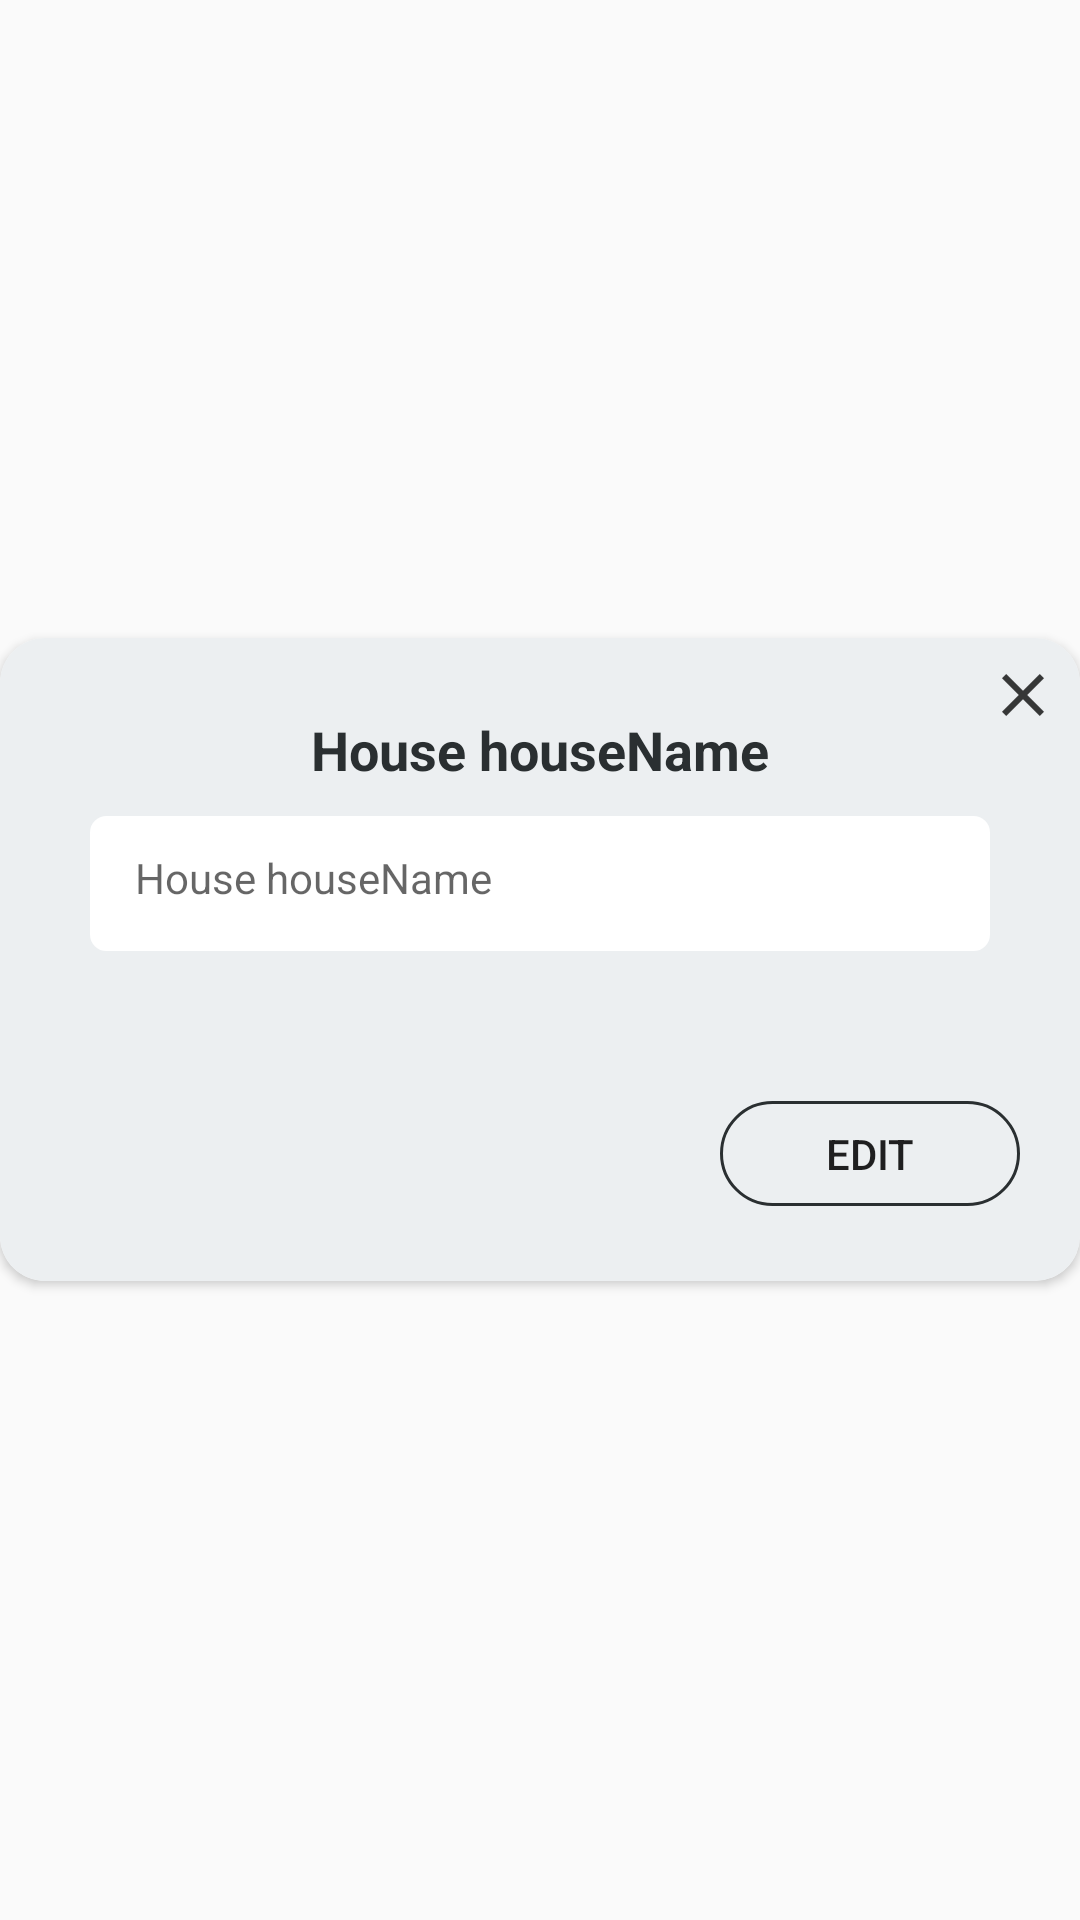

Screen size 1080x1920. Icon name, then its box in pixels as rect(x1, y1, x2, y2):
close: rect(1002, 674, 1044, 716)
